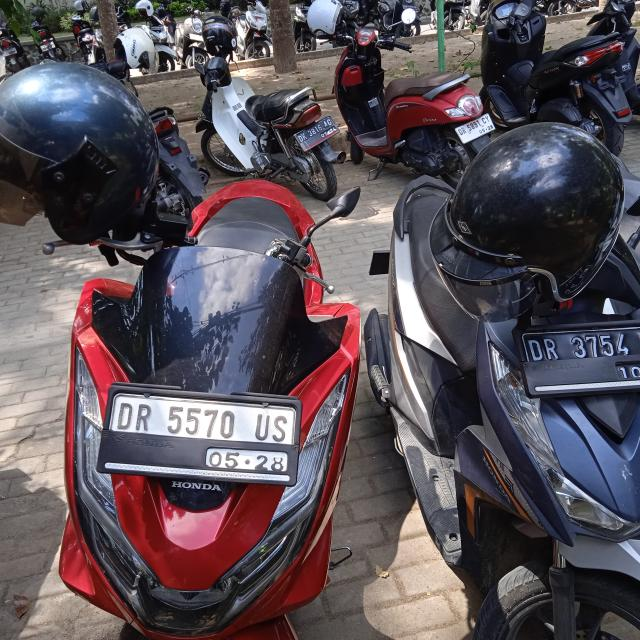plate: (110, 384, 298, 488), (520, 319, 640, 385), (294, 115, 341, 154), (455, 113, 495, 144)
